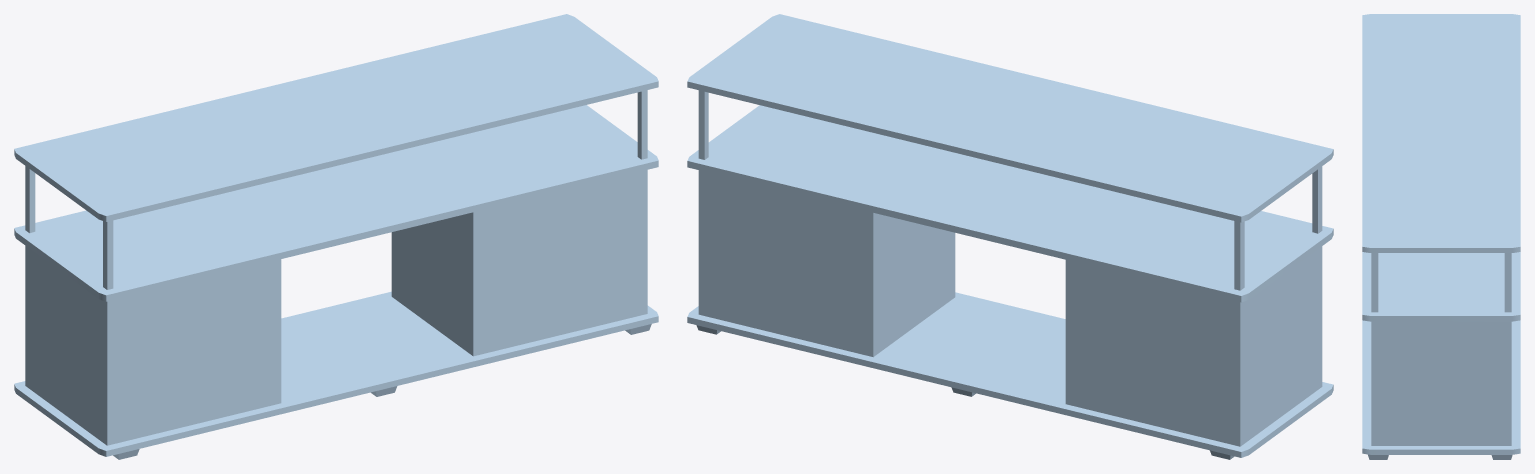
The model's file is CoffeeTable.FBX.
3 renders of one model, left to right at view 1: azimuth 30°, elevation 25°; view 2: azimuth 150°, elevation 25°; view 3: azimuth 270°, elevation 25°, orthographic. The views are drawn at different scales.
Parts seen in each view (by area): view 1: CoffeeTable; view 2: CoffeeTable; view 3: CoffeeTable.
Boxes of the visible parts, x1,y1,x2,y2 form: CoffeeTable: [14, 14, 658, 459]; CoffeeTable: [687, 14, 1333, 459]; CoffeeTable: [1362, 14, 1520, 459].
Size of the model in its own units: 372 by 106 by 160.
